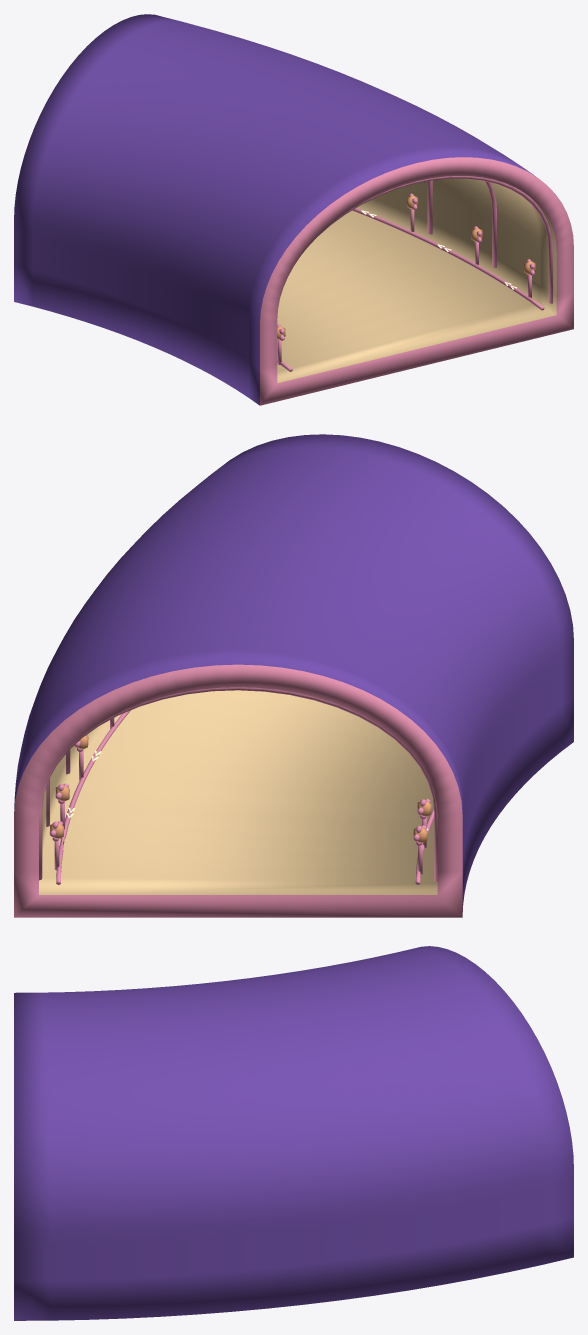
The model's file is curve_left_30_lod1.glb.
The picture shows the model from 3 angles, top to bottom: view 1: azimuth 30°, elevation 25°; view 2: azimuth 150°, elevation 25°; view 3: azimuth 270°, elevation 25°; orthographic projection. The views are drawn at different scales.
Parts seen in each view (by area): view 1: TunnelGeometry.001; view 2: TunnelGeometry.001; view 3: TunnelGeometry.001.
Part boxes in pixels (box(x1,y1,x2,y2)): TunnelGeometry.001: box(14, 14, 573, 405); TunnelGeometry.001: box(14, 434, 573, 917); TunnelGeometry.001: box(14, 946, 573, 1320).
Bounding box in the file's own units: 19.1 × 9.52 × 21.83.
Materials: 5 (2 with a texture image).
